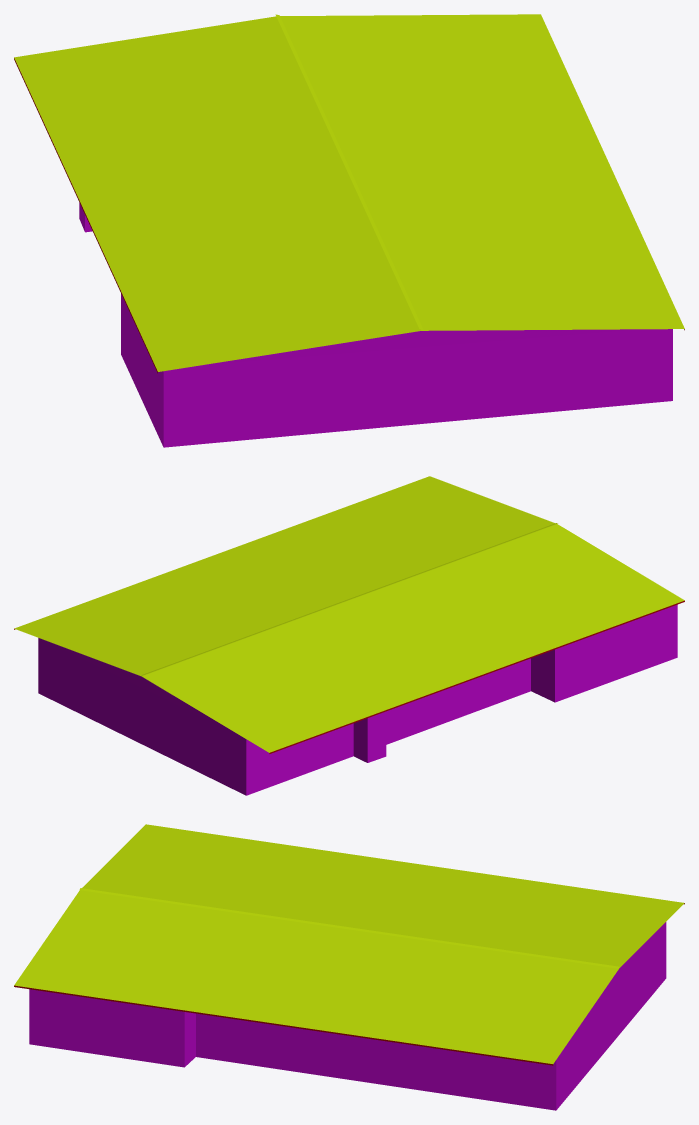
File: bgj_97.glb
The picture shows the model from 3 angles, top to bottom: view 1: azimuth 30°, elevation 25°; view 2: azimuth 150°, elevation 25°; view 3: azimuth 270°, elevation 25°; orthographic projection. The views are drawn at different scales.
Visible parts, largest first — view 1: bgj_97; view 2: bgj_97; view 3: bgj_97.
Part boxes in pixels (left/top/right/bottom): bgj_97: left=14, top=14, right=684, bottom=447; bgj_97: left=14, top=476, right=684, bottom=795; bgj_97: left=14, top=824, right=684, bottom=1110.
Bounding box in the file's own units: 42.79 × 6.3 × 50.57.
